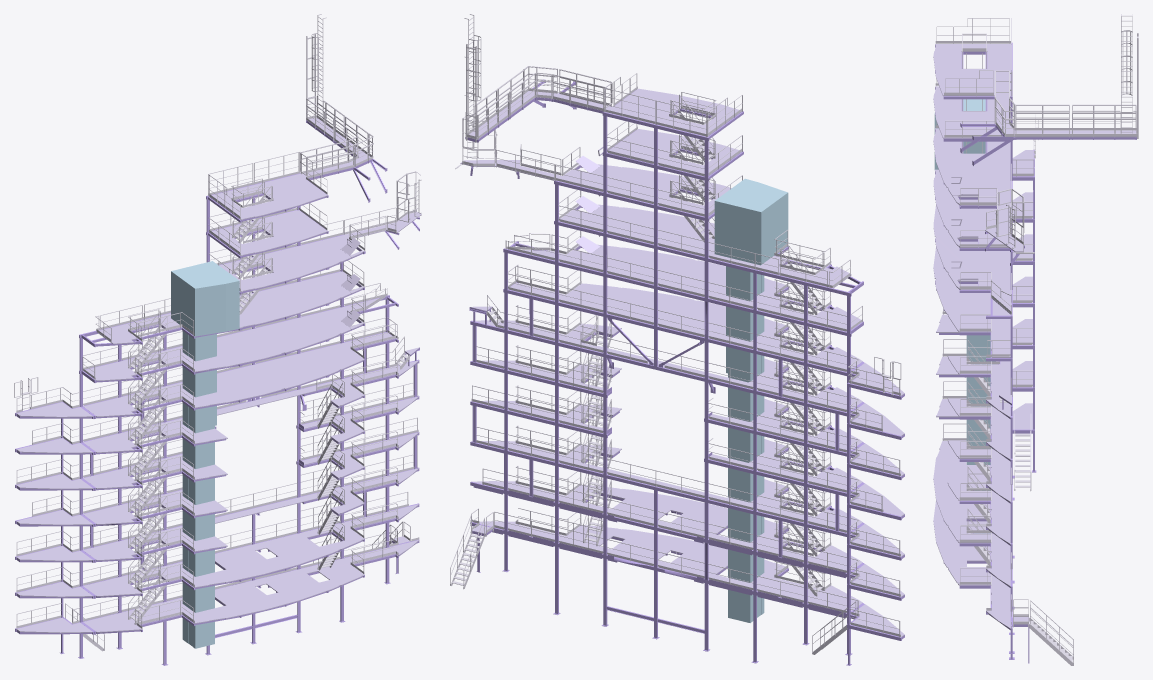
The model's file is ho-side-a-platforms.glb.
3 views of the same model, side by side, from view 1: azimuth 30°, elevation 25°; view 2: azimuth 150°, elevation 25°; view 3: azimuth 270°, elevation 25° (orthographic). The views are drawn at different scales.
Parts seen in each view (by area): view 1: _0000015BB4008570_IndexedFaceSet, _0000015BB4006200_IndexedFaceSet, _0000015BB4008420_IndexedFaceSet, _0000015BB400BB40_IndexedFaceSet; view 2: _0000015BB4008570_IndexedFaceSet, _0000015BB4006200_IndexedFaceSet, _0000015BB4008420_IndexedFaceSet, _0000015BB400BB40_IndexedFaceSet; view 3: _0000015BB4008570_IndexedFaceSet, _0000015BB4006200_IndexedFaceSet, _0000015BB4008420_IndexedFaceSet, _0000015BB400BB40_IndexedFaceSet.
Part boxes in pixels (bbox=[...]): _0000015BB4008570_IndexedFaceSet: bbox=[16, 117, 421, 633]; _0000015BB4006200_IndexedFaceSet: bbox=[14, 14, 421, 651]; _0000015BB4008420_IndexedFaceSet: bbox=[15, 120, 419, 665]; _0000015BB400BB40_IndexedFaceSet: bbox=[171, 261, 239, 648]; _0000015BB4008570_IndexedFaceSet: bbox=[460, 88, 904, 637]; _0000015BB4006200_IndexedFaceSet: bbox=[450, 14, 901, 654]; _0000015BB4008420_IndexedFaceSet: bbox=[465, 79, 904, 665]; _0000015BB400BB40_IndexedFaceSet: bbox=[714, 178, 788, 622]; _0000015BB4008570_IndexedFaceSet: bbox=[933, 44, 1136, 628]; _0000015BB4006200_IndexedFaceSet: bbox=[935, 14, 1138, 665]; _0000015BB4008420_IndexedFaceSet: bbox=[935, 42, 1136, 663]; _0000015BB400BB40_IndexedFaceSet: bbox=[934, 99, 995, 533].
Bounding box in the file's own units: 29.04 × 39.12 × 11.01.
